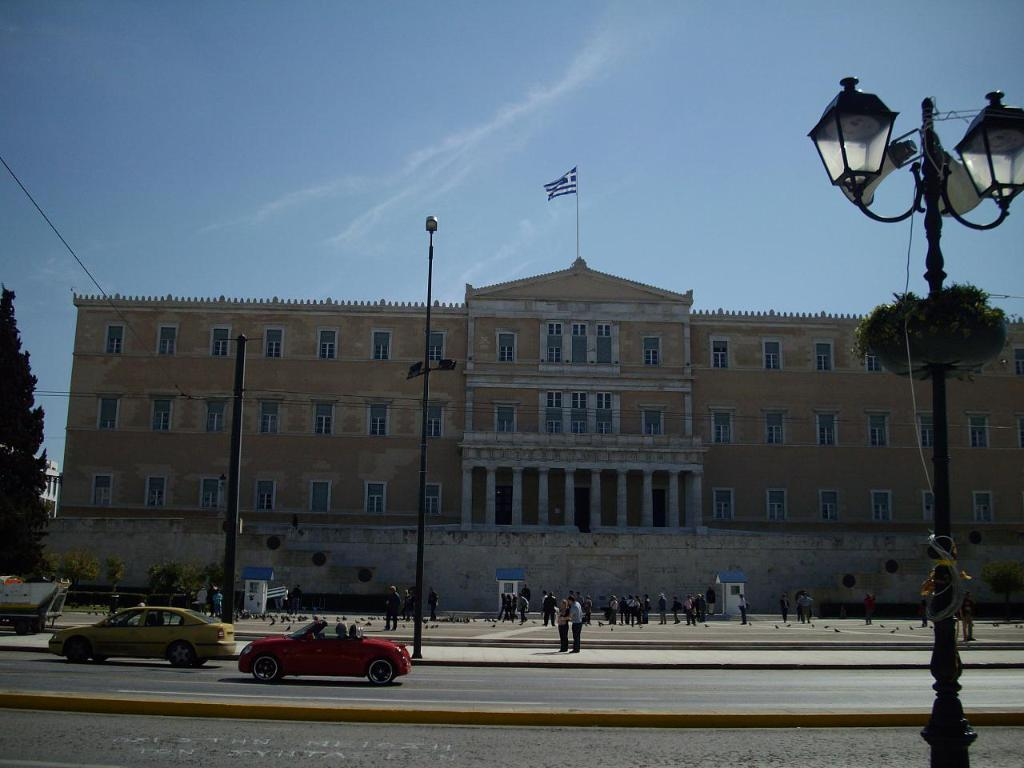Car: (221, 615, 419, 691), (44, 604, 242, 668)
